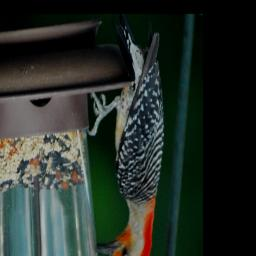Woodpecker: (88, 16, 168, 256)
